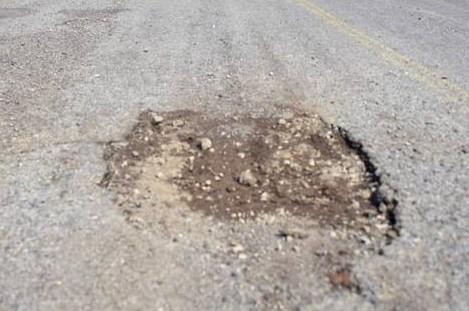pothole: (100, 85, 410, 291)
